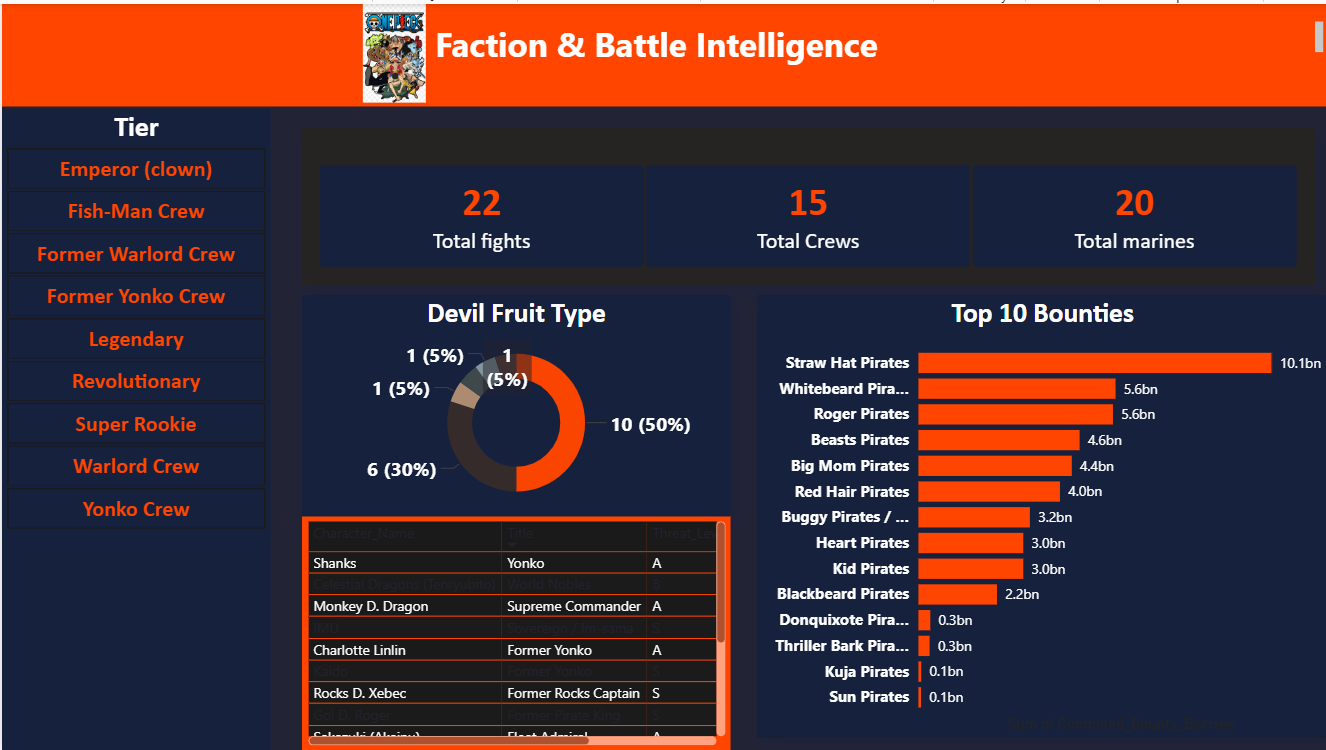

The dashboard page shown, as its layout file describes it:
{"tool":"powerbi","page":{"name":"Faction & Battle Intelligence","canvas":[1280,720],"ordinal":2},"visuals":[{"type":"shape","box":[0.5,0,1279.5,98.9],"z":0,"group":"g1"},{"type":"barChart","title":"Top 10 Bounties","fields":{"Category":["PirateCrews.Crew_Name"],"Y":["Sum(PirateCrews.Combined_Bounty_Berries)"]},"box":[728.7,281.1,551.3,427.1],"z":0},{"type":"textbox","box":[0,12,1280,52.2],"z":1000,"group":"g1"},{"type":"donutChart","title":"Devil Fruit Type","fields":{"Category":["WorldGov_Marines.Organization"],"Y":["CountNonNull(WorldGov_Marines.Haki_User)"]},"box":[289.5,281.1,413.8,213.5],"z":1000},{"type":"listSlicer","fields":{"Values":["PirateCrews.Tier"]},"box":[0,101.3,259.4,618.9],"z":2000},{"type":"group","id":"g1","title":"Group 1","box":[0,0,1280,98.9],"z":3000},{"type":"cardVisual","title":"Total Characters","fields":{"Data":["CountNonNull(Fights.Fight_ID)","CountNonNull(PirateCrews.Crew_Name)","CountNonNull(WorldGov_Marines.Character_Name)"]},"box":[289.5,119.4,978.4,152],"z":4000},{"type":"tableEx","fields":{"Values":["IMU_PowerStructure.Character_Name","IMU_PowerStructure.Title","IMU_PowerStructure.Threat_Level","IMU_PowerStructure.Organization"]},"box":[289.5,494.6,413.8,225.6],"z":5000},{"type":"image","box":[200.3,0,357.1,95.3],"z":5001}]}

Visuals, with their boxes in screenshot pixels (x1, y1, x2, y2), scaled from the page's 1280x720 canvas onto the 1326x750 screenshot:
shape: bbox(1, 0, 1325, 103)
"Top 10 Bounties" barChart: bbox(755, 293, 1325, 738)
textbox: bbox(0, 12, 1325, 67)
"Devil Fruit Type" donutChart: bbox(300, 293, 729, 515)
listSlicer - PirateCrews.Tier: bbox(0, 106, 269, 749)
"Group 1" group: bbox(0, 0, 1325, 103)
"Total Characters" cardVisual: bbox(300, 124, 1313, 283)
tableEx - IMU_PowerStructure.Character_Name x IMU_PowerStructure.Title: bbox(300, 515, 729, 749)
image: bbox(207, 0, 577, 99)
